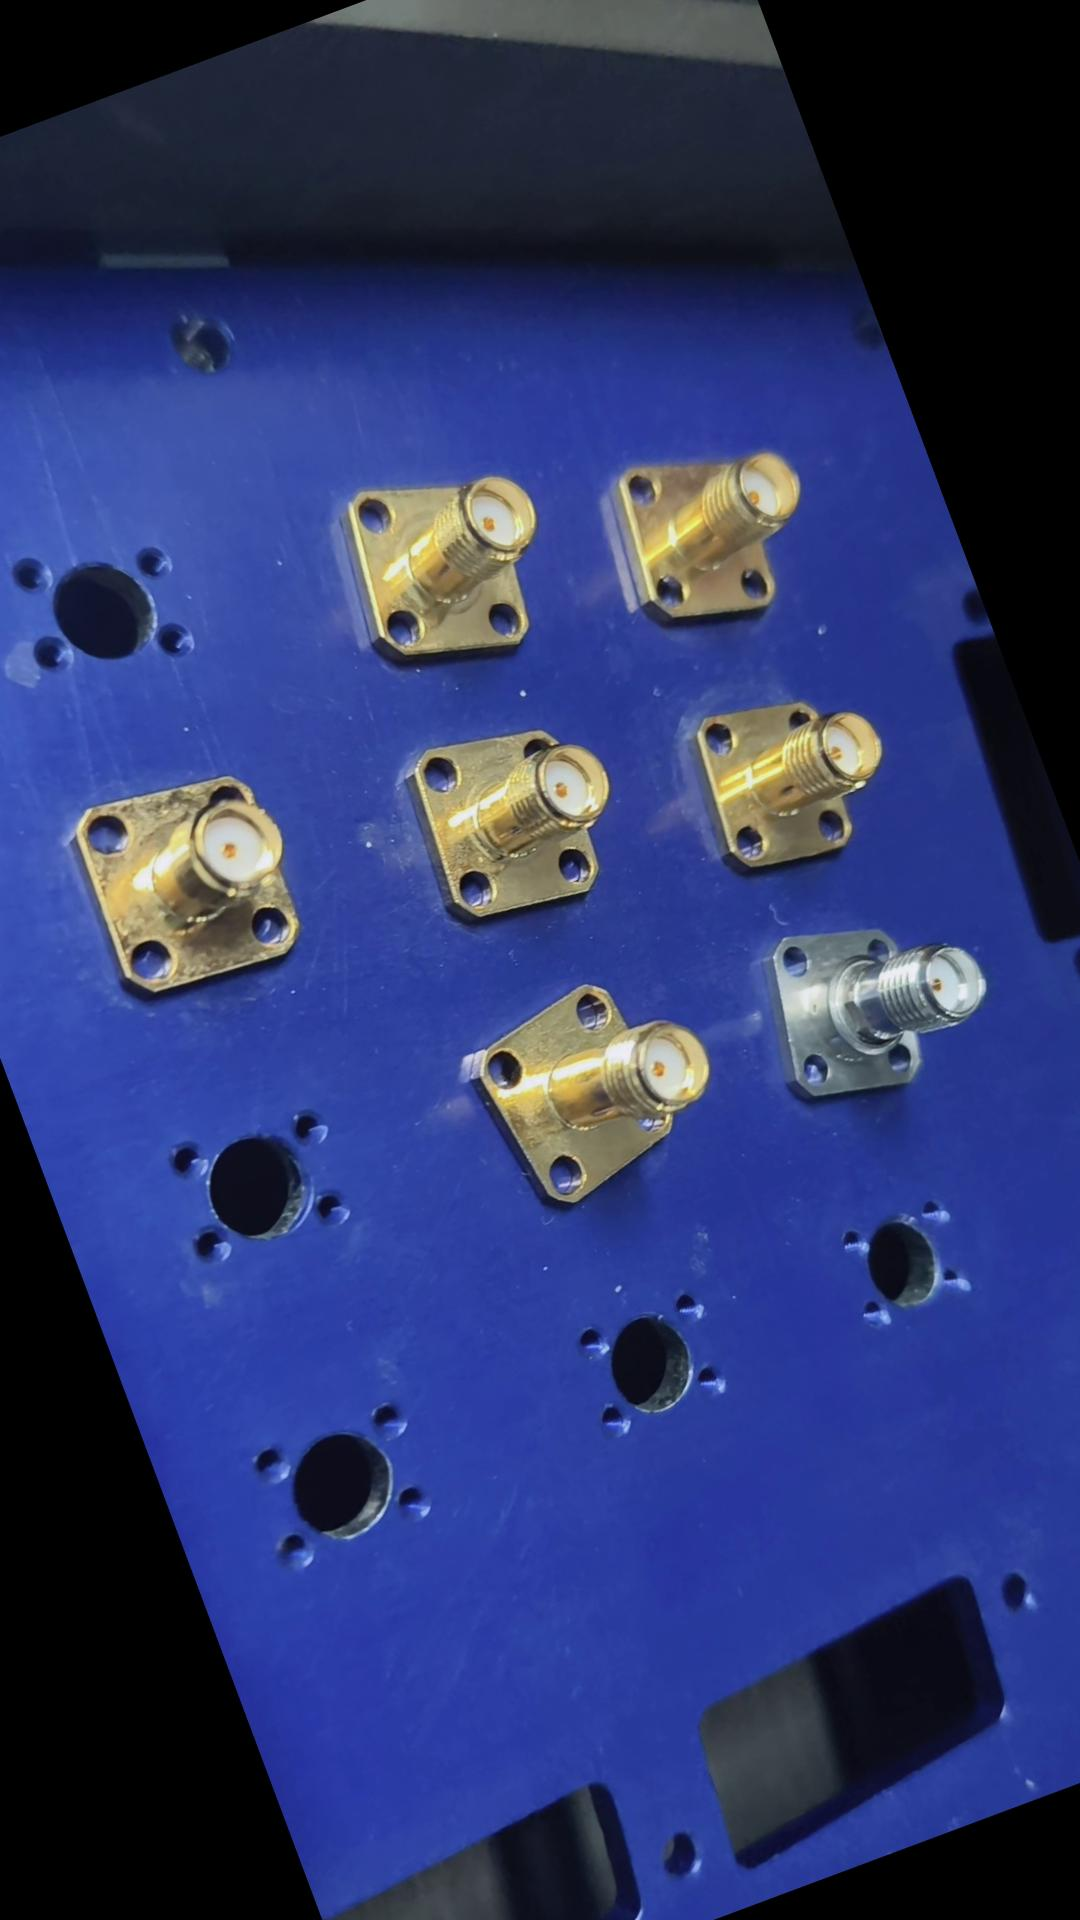SMA: (448, 949, 738, 1225), (53, 746, 324, 1018), (733, 873, 1013, 1127), (381, 692, 649, 949), (310, 436, 570, 698), (588, 415, 840, 653), (669, 658, 913, 894)
